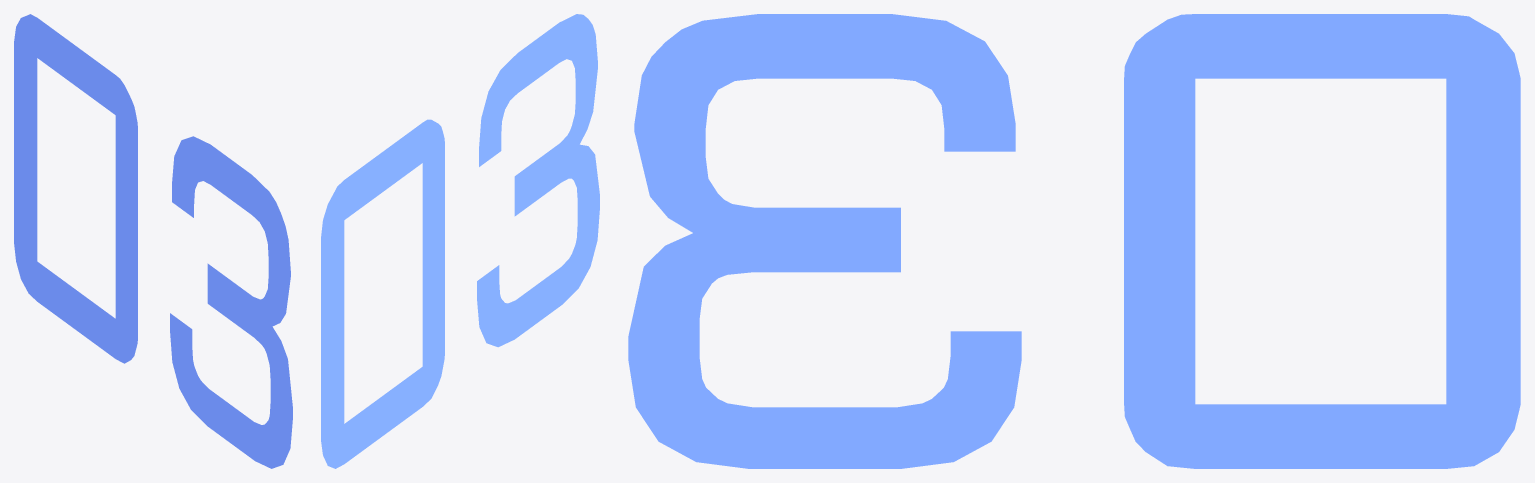
Rendered from numeroPortal_Okex_03.glb.
3 renders of one model, left to right at view 1: azimuth 30°, elevation 25°; view 2: azimuth 150°, elevation 25°; view 3: azimuth 270°, elevation 25°, orthographic. The views are drawn at different scales.
Parts seen in each view (by area): view 1: 03; view 2: 03; view 3: 03.
Boxes of the visible parts, left/top/right/bottom form: 03: left=14, top=14, right=292, bottom=468; 03: left=321, top=14, right=599, bottom=468; 03: left=628, top=14, right=1520, bottom=468.
Bounding box in the file's own units: 0 × 0.2928 × 0.5205.
